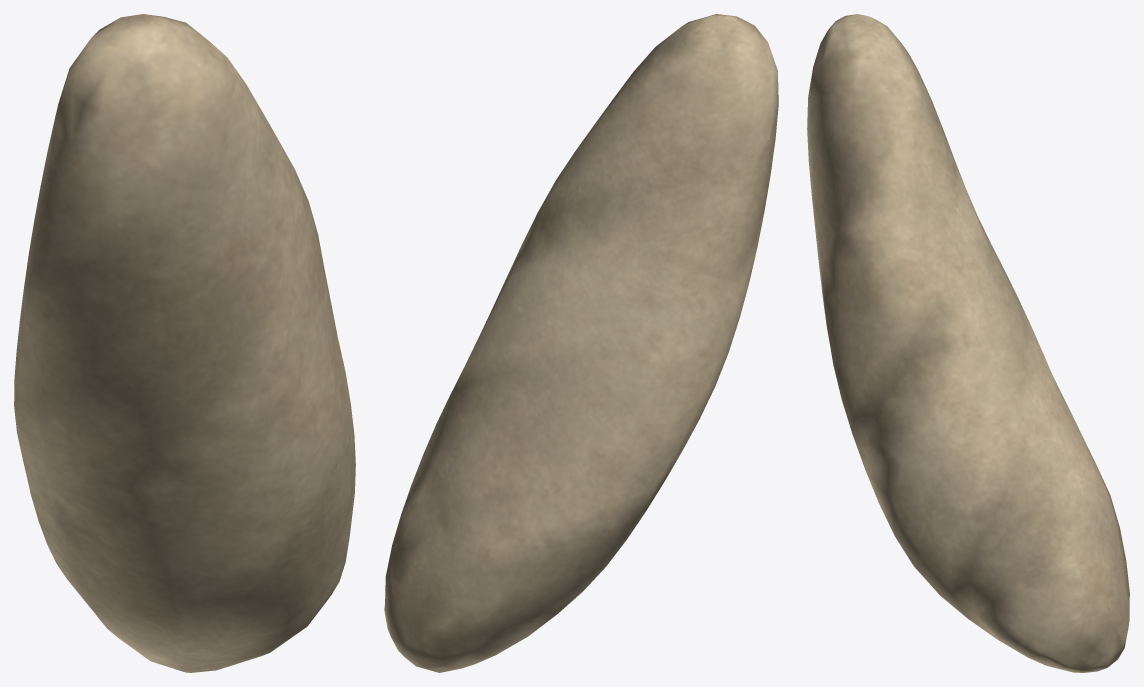
Rendered from Upper_Canine.glb.
The picture shows the model from 3 angles, left to right: view 1: azimuth 30°, elevation 25°; view 2: azimuth 150°, elevation 25°; view 3: azimuth 270°, elevation 25°; orthographic projection. The views are drawn at different scales.
Visible parts, largest first — view 1: Upper_Canine.glb; view 2: Upper_Canine.glb; view 3: Upper_Canine.glb.
Part boxes in pixels (x1,y1,x2,y2): Upper_Canine.glb: [14, 14, 355, 672]; Upper_Canine.glb: [384, 14, 778, 672]; Upper_Canine.glb: [807, 14, 1129, 672].
Size of the model in its own units: 0.00972 by 0.0199 by 0.0102.
1 material, 1 textured.
